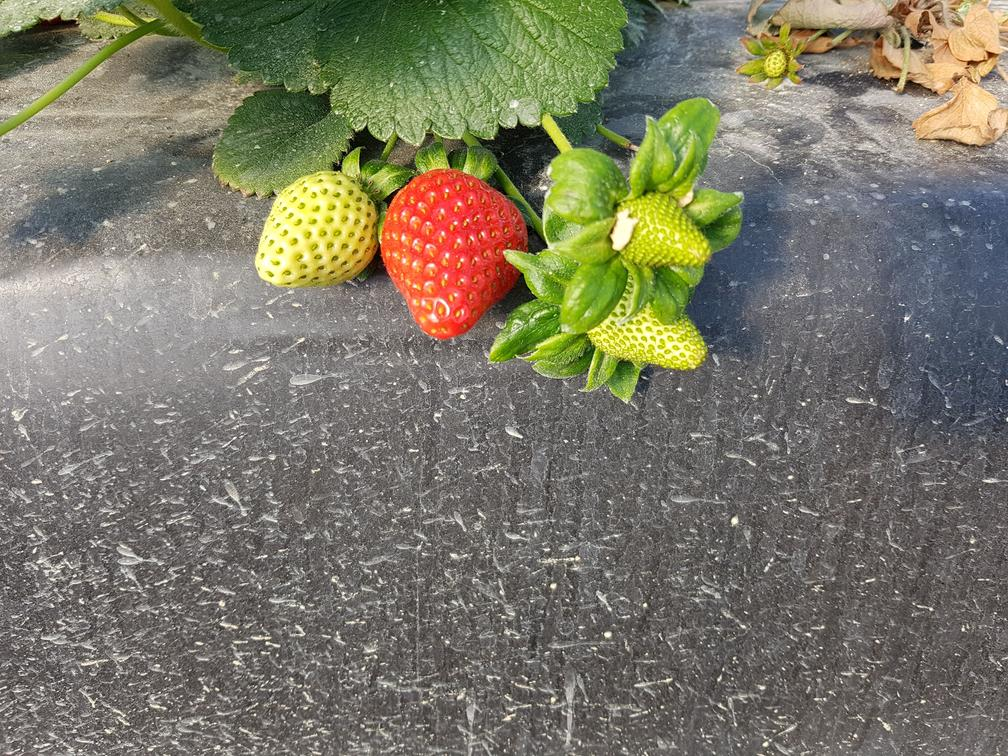Ripe: (380, 168, 534, 345)
Unripe: (245, 168, 388, 292), (579, 269, 715, 381), (606, 192, 717, 276)
